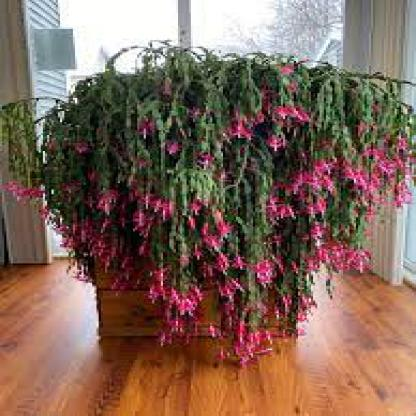Aglonema: (109, 138, 407, 341)
